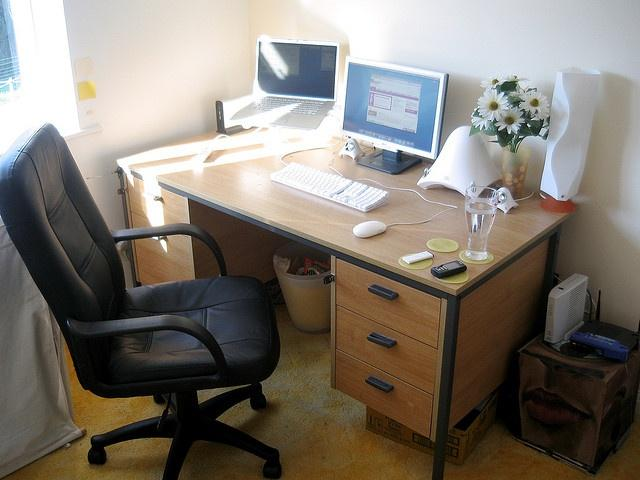AIO PC-Monitor-TV: (338, 56, 448, 159)
Kursi: (0, 121, 282, 479)
Meja: (115, 122, 577, 316)
